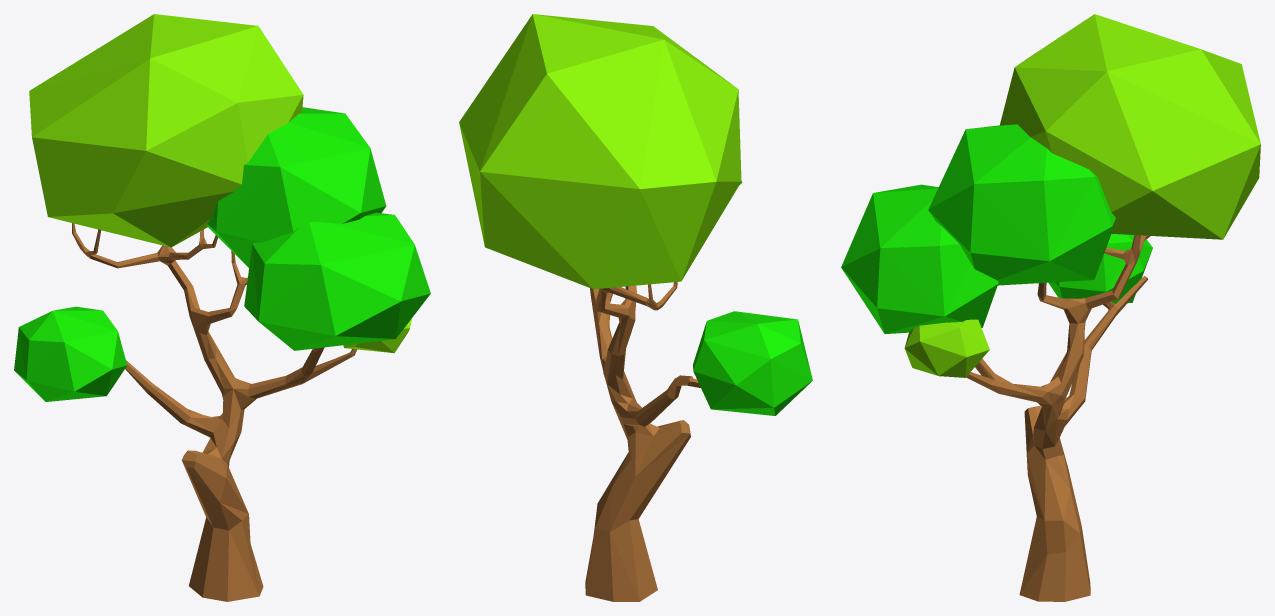
Rendered from listnato1.glb.
3 views of the same model, side by side, from view 1: azimuth 30°, elevation 25°; view 2: azimuth 150°, elevation 25°; view 3: azimuth 270°, elevation 25° (orthographic). The views are drawn at different scales.
Parts seen in each view (by area): view 1: Lowpoly_Tree_15; view 2: Lowpoly_Tree_15; view 3: Lowpoly_Tree_15.
Part boxes in pixels (x1,y1,x2,y2): Lowpoly_Tree_15: (14, 14, 430, 601); Lowpoly_Tree_15: (459, 14, 812, 601); Lowpoly_Tree_15: (841, 14, 1260, 601).
Size of the model in its own units: 1.21 by 1.92 by 1.34.
